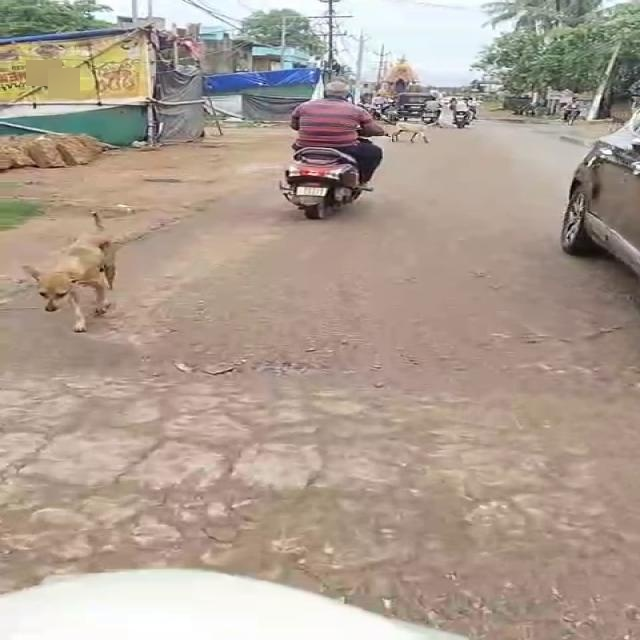pothole: (160, 353, 339, 381)
